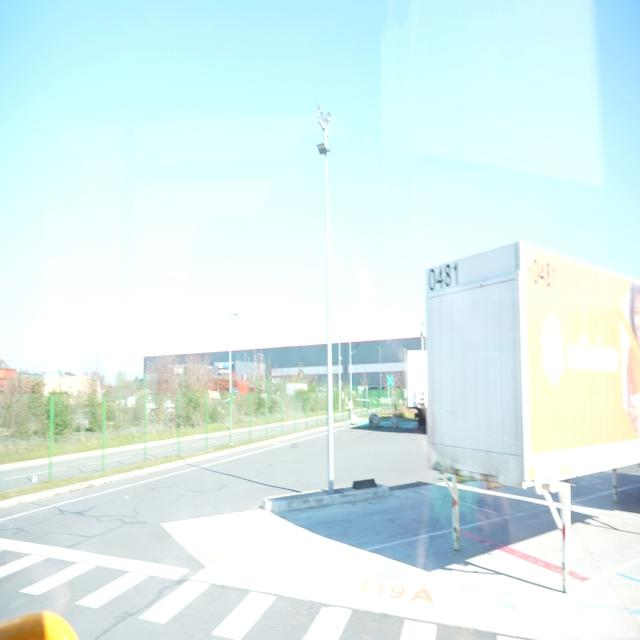Code: (423, 264, 463, 290)
